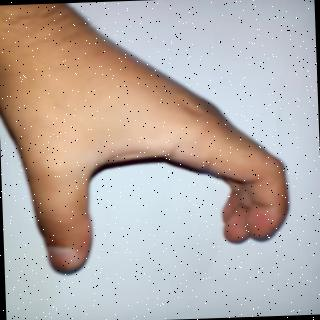C: (27, 91, 295, 276)
